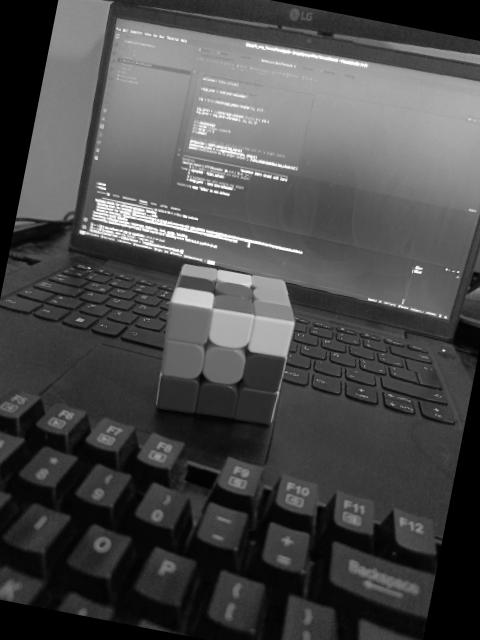rubik: (147, 257, 303, 430)
